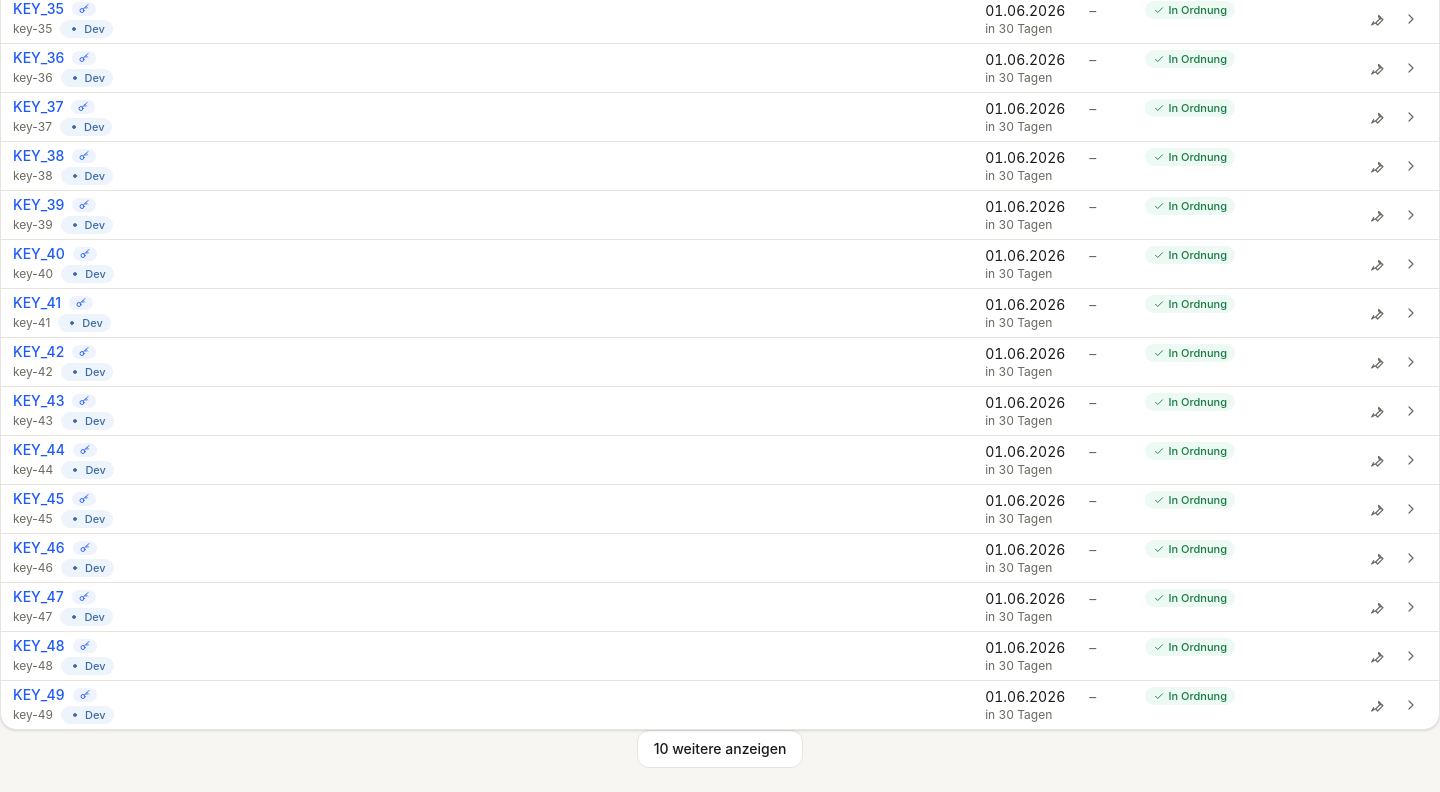
Test: Entries page: list › lists many rows in pages
The width and height of the screenshot is (1440, 792).
(page scrolled)
Click the button "10 weitere anzeigen".
click(720, 749)  # box [637,730,803,768]
(page scrolled)
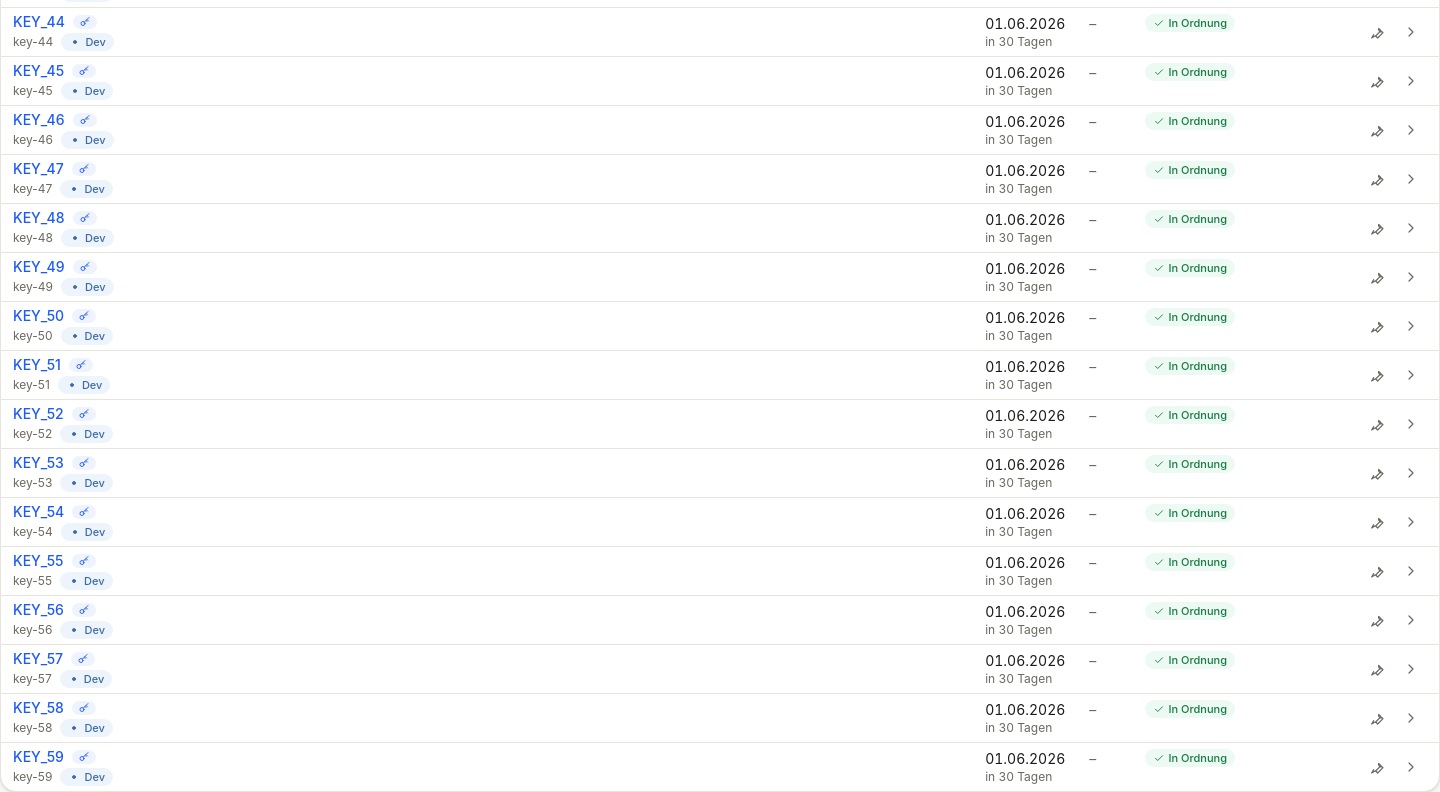
Now the link "KEY_55" is shown, box [13,551,64,571]
